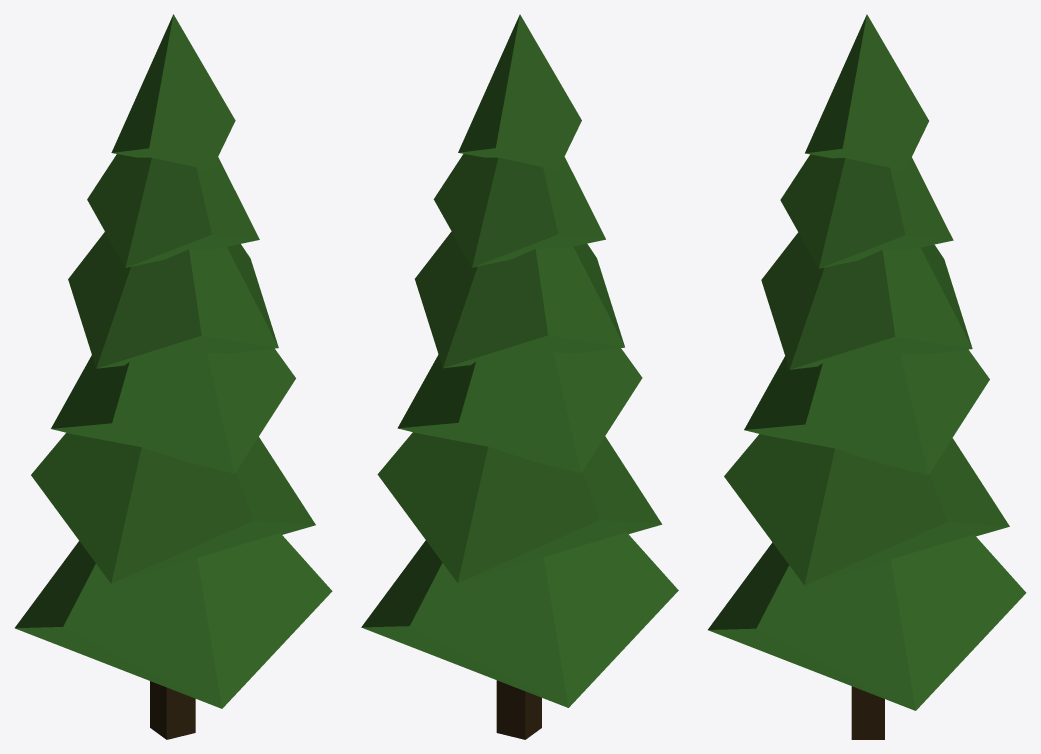
File: tree.glb
The picture shows the model from 3 angles, left to right: view 1: azimuth 30°, elevation 25°; view 2: azimuth 150°, elevation 25°; view 3: azimuth 270°, elevation 25°; orthographic projection.
Parts seen in each view (by area): view 1: Plane.004; view 2: Plane.004; view 3: Plane.004.
Part boxes in pixels (left/top/right/bottom): Plane.004: left=15, top=14, right=332, bottom=739; Plane.004: left=361, top=14, right=678, bottom=739; Plane.004: left=708, top=14, right=1026, bottom=739.
Bounding box in the file's own units: 4.66 × 11.85 × 4.77.
